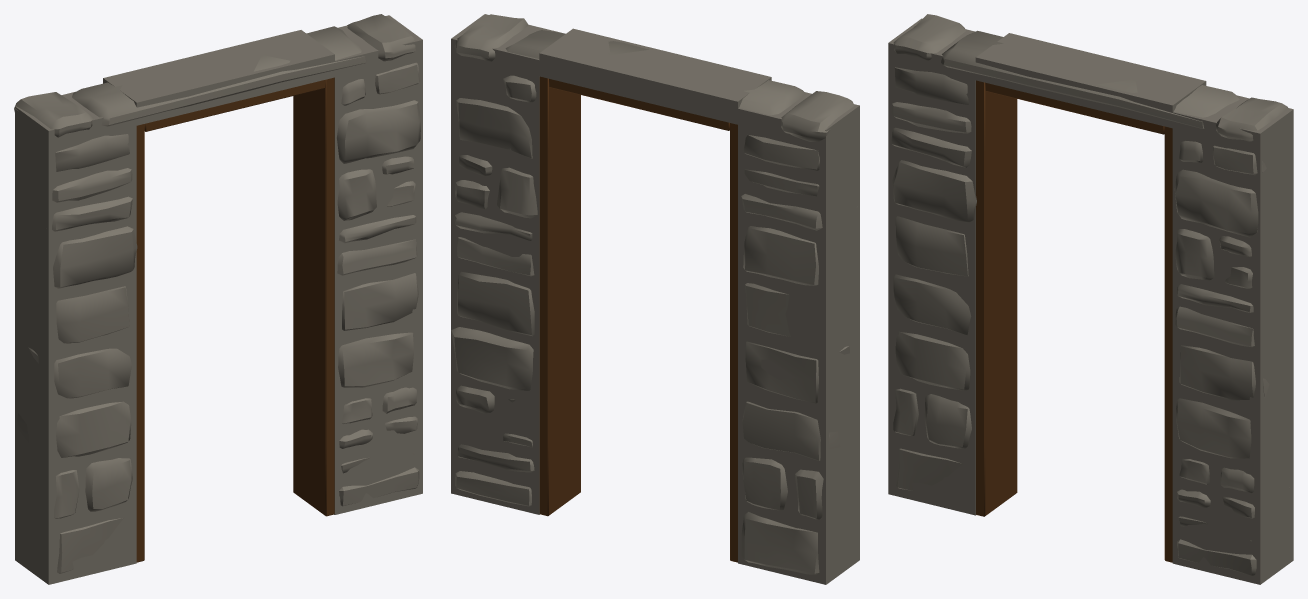
File: steinwand_tuer.glb
3 views of the same model, side by side, from view 1: azimuth 30°, elevation 25°; view 2: azimuth 150°, elevation 25°; view 3: azimuth 330°, elevation 25° (orthographic).
Visible parts, largest first — view 1: steinwand_tuer; view 2: steinwand_tuer; view 3: steinwand_tuer.
Boxes of the visible parts, x1,y1,x2,y2 form: steinwand_tuer: [14, 14, 422, 584]; steinwand_tuer: [451, 14, 859, 584]; steinwand_tuer: [888, 14, 1293, 584].
Size of the model in its own units: 1.71 by 2.01 by 0.3318.
